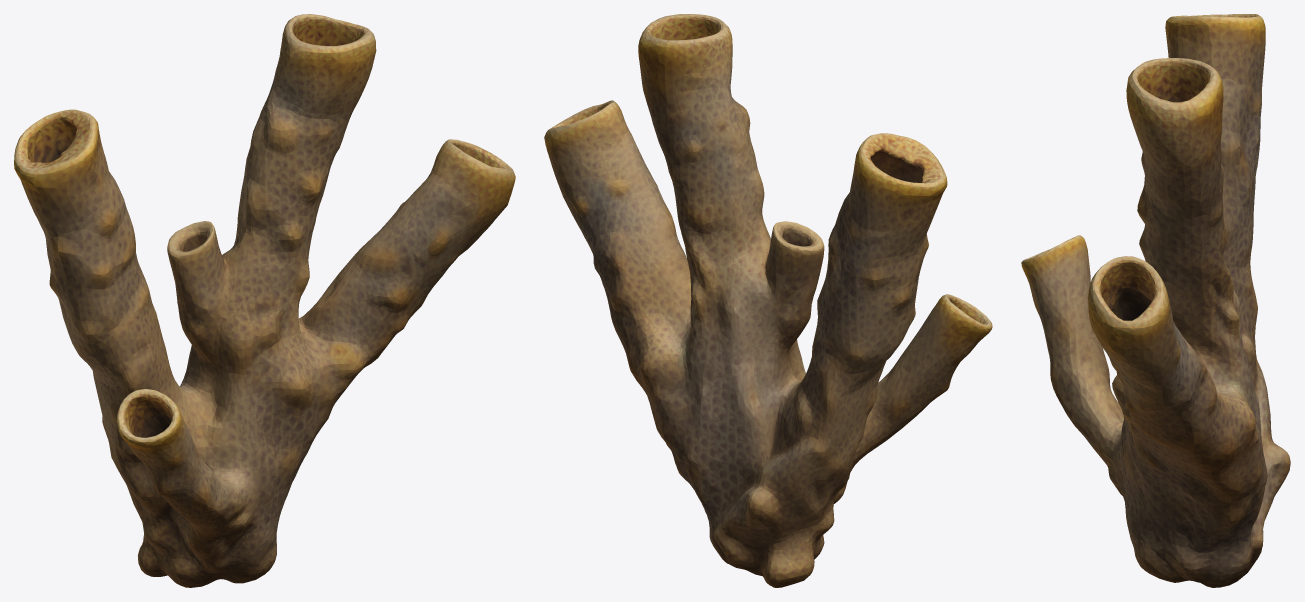
3 views of the same model, side by side, from view 1: azimuth 30°, elevation 25°; view 2: azimuth 150°, elevation 25°; view 3: azimuth 270°, elevation 25° (orthographic). The views are drawn at different scales.
Parts seen in each view (by area): view 1: world; view 2: world; view 3: world.
Boxes of the visible parts, box(x1,y1,x2,y2) form: world: box(14, 14, 515, 587); world: box(544, 14, 992, 587); world: box(1021, 14, 1290, 587).
Size of the model in its own units: 0.8792 by 0.9976 by 0.4387.
Materials: 1 (1 with a texture image).
